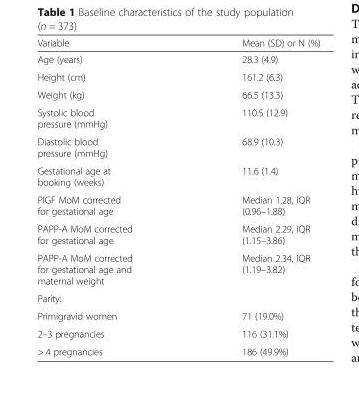table: (36, 36, 319, 356)
table column: (36, 36, 186, 356), (186, 36, 319, 356)
table column header: (36, 36, 319, 50)
table projected row header: (36, 289, 319, 306)
table row: (36, 248, 319, 289), (36, 103, 319, 132), (36, 132, 319, 161), (36, 161, 319, 190), (36, 190, 319, 219), (36, 219, 319, 248), (36, 67, 319, 85), (36, 85, 319, 103), (36, 306, 319, 324), (36, 324, 319, 342), (36, 50, 319, 67), (36, 289, 319, 306), (36, 36, 319, 50), (36, 342, 319, 356)
